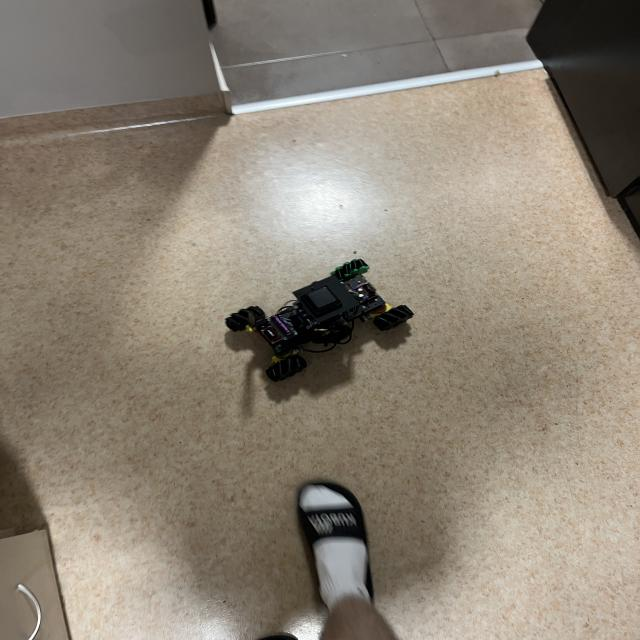robot: (226, 259, 414, 382)
